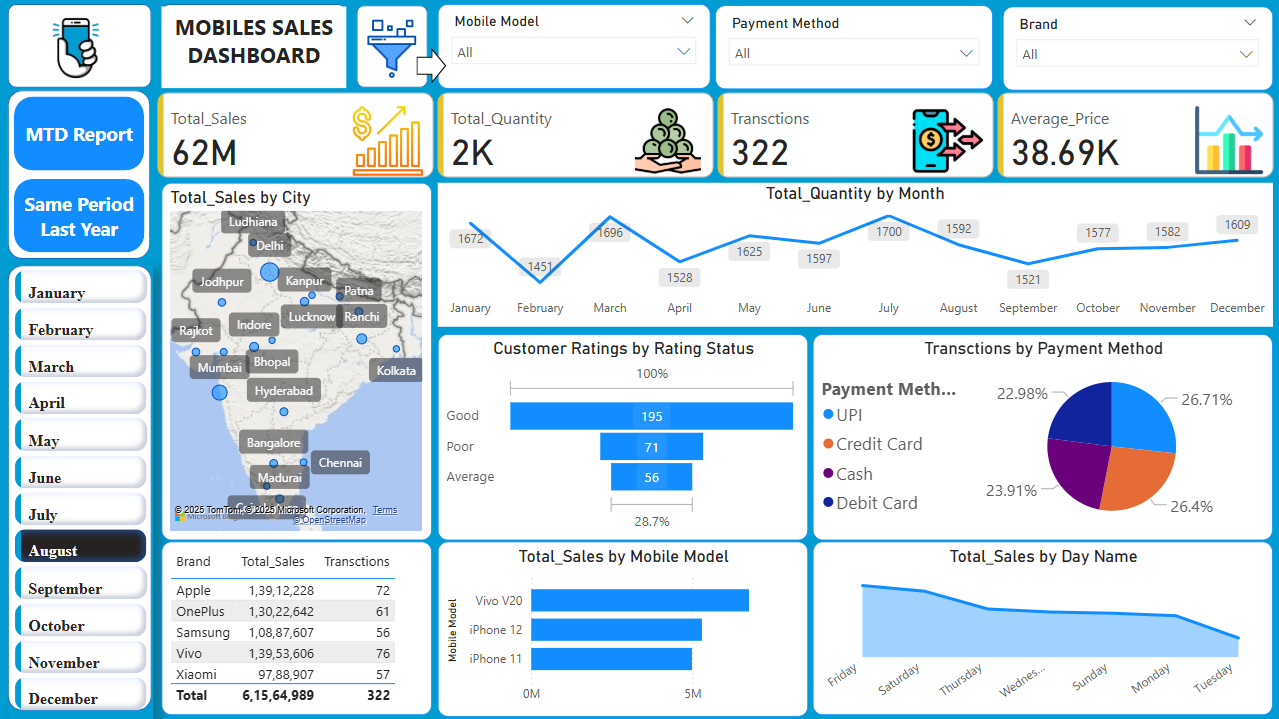

Layout of this report page (visuals, bound fields, positions):
{"tool":"powerbi","page":{"name":"Dashboard","canvas":[1280,720],"ordinal":0},"visuals":[{"type":"shape","box":[8.8,5,143.8,83.8],"z":0},{"type":"image","box":[33.8,7.5,82.5,82.5],"z":1000},{"type":"shape","box":[8.8,91.2,142.5,168.8],"z":2000},{"type":"shape","box":[8.5,266.1,144,445.5],"z":3000},{"type":"advancedSlicerVisual","fields":{"Values":["Custom_Calender.Date.Variation.Date Hierarchy.Month"]},"box":[11,266.1,142.8,454],"z":4000},{"type":"cardVisual","fields":{"Data":["Mobiles_Sales_Data.Total_Sales","Mobiles_Sales_Data.Total_Quantity","Mobiles_Sales_Data.Transctions","Mobiles_Sales_Data.Average_Price"]},"box":[153.8,88.8,1126.2,95],"z":5000},{"type":"slicer","fields":{"Values":["Mobiles_Sales_Data.Mobile Model"]},"box":[438.8,5,272.5,85],"z":6000},{"type":"slicer","fields":{"Values":["Mobiles_Sales_Data.Payment Method"]},"box":[716.2,6.2,277.5,83.8],"z":7000},{"type":"slicer","fields":{"Values":["Mobiles_Sales_Data.Brand"]},"box":[1003.8,7.5,270,83.8],"z":8000},{"type":"shape","box":[357.5,6.2,71.2,82.5],"z":9000},{"type":"image","box":[310,15,166.2,70],"z":10000},{"type":"shape","box":[162.5,5,185,83.8],"z":11000},{"type":"textbox","box":[162.5,7.5,185,81.2],"z":12000},{"type":"shape","box":[417.5,48.8,30,36.2],"z":13000},{"type":"map","fields":{"Category":["Mobiles_Sales_Data.City"],"Size":["Mobiles_Sales_Data.Total_Sales"]},"box":[162.5,183.8,270,357.5],"z":14000},{"type":"lineChart","fields":{"Y":["Mobiles_Sales_Data.Total_Quantity"],"Category":["Custom_Calender.Date.Variation.Date Hierarchy.Month"]},"box":[438.8,183.8,835,143.8],"z":15000},{"type":"funnel","title":"Customer Ratings by Rating Status","fields":{"Y":["CountNonNull(Mobiles_Sales_Data.Customer Ratings)"],"Category":["Mobiles_Sales_Data.Rating Status"]},"box":[438.8,335,370,206.2],"z":16000},{"type":"pieChart","fields":{"Category":["Mobiles_Sales_Data.Payment Method"],"Y":["Mobiles_Sales_Data.Transctions"]},"box":[813.8,335,460,206.2],"z":17000},{"type":"clusteredBarChart","fields":{"Category":["Mobiles_Sales_Data.Mobile Model"],"Y":["Mobiles_Sales_Data.Total_Sales"]},"box":[438.8,542.5,370,175],"z":18000},{"type":"areaChart","fields":{"Y":["Mobiles_Sales_Data.Total_Sales"],"Category":["Custom_Calender.Day Name"]},"box":[813.8,542.5,460,173.8],"z":19000},{"type":"tableEx","fields":{"Values":["Mobiles_Sales_Data.Brand","Mobiles_Sales_Data.Total_Sales","Mobiles_Sales_Data.Transctions"]},"box":[162.5,542.5,270,173.8],"z":20000},{"type":"pageNavigator","box":[15,97.5,130,156.2],"z":20001}]}

Visuals, with their boxes in screenshot pixels (x1, y1, x2, y2), scaled from the page's 1280x720 canvas onto the 1279x719 screenshot:
shape: 9:5:152:89
image: 34:7:116:90
shape: 9:91:151:260
shape: 8:266:152:711
advancedSlicerVisual - Custom_Calender.Date.Variation.Date Hierarchy.Month: 11:266:154:718
cardVisual - Mobiles_Sales_Data.Total_Sales x Mobiles_Sales_Data.Total_Quantity: 154:89:1278:184
slicer - Mobiles_Sales_Data.Mobile Model: 438:5:711:90
slicer - Mobiles_Sales_Data.Payment Method: 716:6:993:90
slicer - Mobiles_Sales_Data.Brand: 1003:7:1273:91
shape: 357:6:428:89
image: 310:15:476:85
shape: 162:5:347:89
textbox: 162:7:347:89
shape: 417:49:447:85
map - Mobiles_Sales_Data.City x Mobiles_Sales_Data.Total_Sales: 162:184:432:541
lineChart - Mobiles_Sales_Data.Total_Quantity x Custom_Calender.Date.Variation.Date Hierarchy.Month: 438:184:1273:327
"Customer Ratings by Rating Status" funnel: 438:335:808:540
pieChart - Mobiles_Sales_Data.Payment Method x Mobiles_Sales_Data.Transctions: 813:335:1273:540
clusteredBarChart - Mobiles_Sales_Data.Mobile Model x Mobiles_Sales_Data.Total_Sales: 438:542:808:717
areaChart - Mobiles_Sales_Data.Total_Sales x Custom_Calender.Day Name: 813:542:1273:715
tableEx - Mobiles_Sales_Data.Brand x Mobiles_Sales_Data.Total_Sales: 162:542:432:715
pageNavigator: 15:97:145:253
